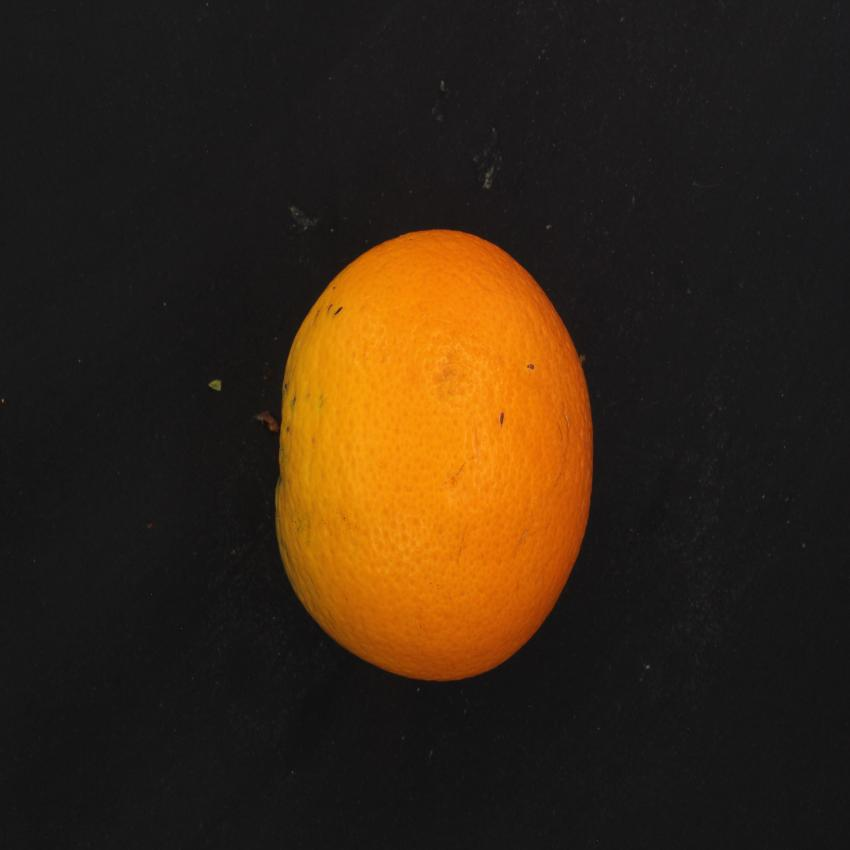Buen estado: (253, 215, 602, 695)
